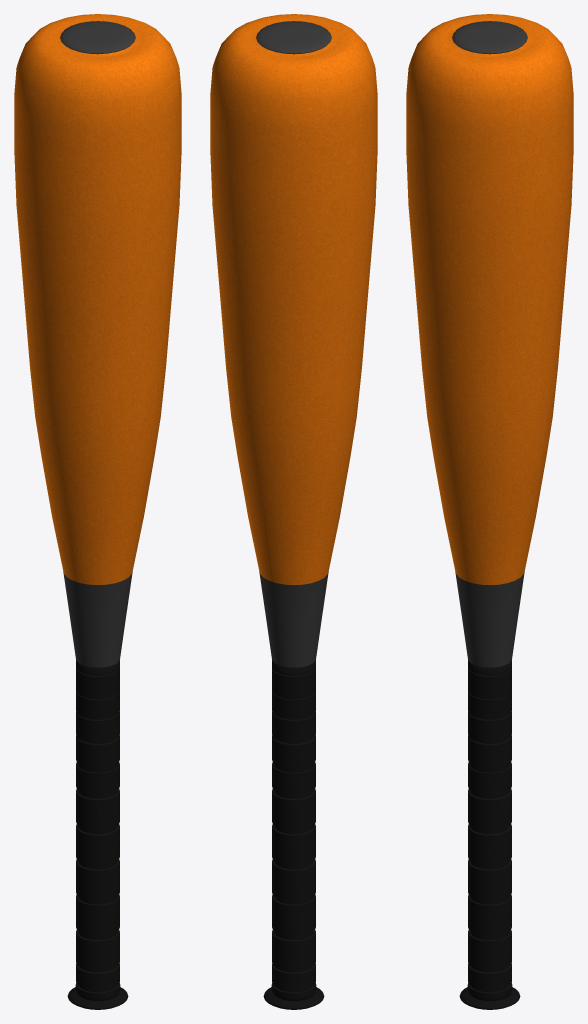
The model's file is ViveBat.FBX.
3 views of the same model, side by side, from view 1: azimuth 30°, elevation 25°; view 2: azimuth 150°, elevation 25°; view 3: azimuth 270°, elevation 25° (orthographic).
Visible parts, largest first — view 1: Bat Length; view 2: Bat Length; view 3: Bat Length.
Part boxes in pixels (<box>): Bat Length: <box>14,14,181,1009</box>; Bat Length: <box>210,14,377,1009</box>; Bat Length: <box>406,14,573,1009</box>.
Size of the model in its own units: 0.0967 by 0.6155 by 0.0967.
